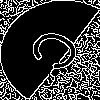C: (25, 25, 94, 81)
